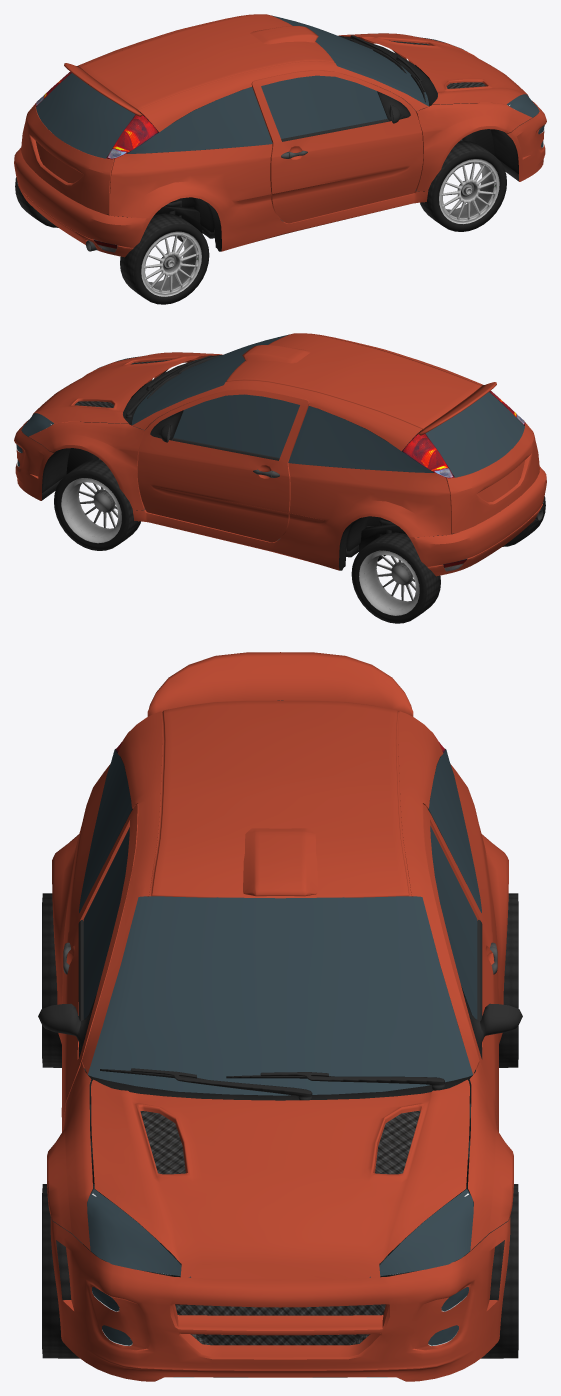
Rendered from ford.glb.
3 views of the same model, one above another, from view 1: azimuth 30°, elevation 25°; view 2: azimuth 150°, elevation 25°; view 3: azimuth 270°, elevation 25° (orthographic). The views are drawn at different scales.
Visible parts, largest first — view 1: body, glass, interior, Wheel_RR, Wheel_FR, Wheel_RL; view 2: body, glass, interior, Wheel_RL, Wheel_FL, Wheel_RR; view 3: body, glass, interior, Wheel_FL, Wheel_FR, Wheel_RR, Wheel_RL.
Boxes of the visible parts, x1=… form: body: x1=14, y1=14, x2=546, y2=257; glass: x1=36, y1=15, x2=544, y2=158; interior: x1=17, y1=35, x2=544, y2=252; Wheel_RR: x1=120, y1=213, x2=209, y2=304; Wheel_FR: x1=418, y1=141, x2=506, y2=231; Wheel_RL: x1=15, y1=177, x2=58, y2=227; body: x1=14, y1=333, x2=546, y2=576; glass: x1=16, y1=334, x2=524, y2=477; interior: x1=16, y1=355, x2=543, y2=571; Wheel_RL: x1=351, y1=532, x2=440, y2=623; Wheel_FL: x1=54, y1=460, x2=142, y2=550; Wheel_RR: x1=502, y1=496, x2=545, y2=546; body: x1=47, y1=652, x2=513, y2=1381; glass: x1=79, y1=700, x2=481, y2=1345; interior: x1=38, y1=736, x2=522, y2=1377; Wheel_FL: x1=461, y1=1184, x2=518, y2=1358; Wheel_FR: x1=42, y1=1184, x2=98, y2=1358; Wheel_RR: x1=42, y1=893, x2=61, y2=1067; Wheel_RL: x1=499, y1=893, x2=518, y2=1067.
Size of the model in its own units: 4.06 by 1.57 by 1.83.
8 materials, 5 textured.
